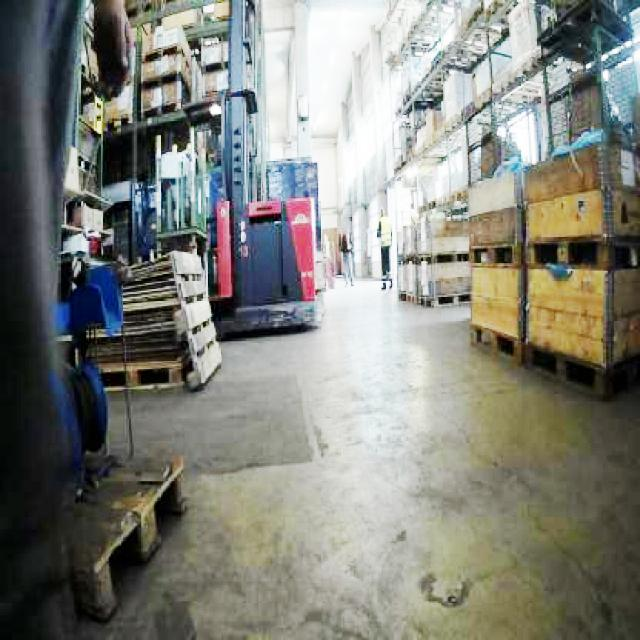ground: (6, 271, 638, 638)
pallet: (378, 0, 638, 398), (465, 143, 638, 397), (63, 451, 186, 620), (82, 248, 222, 392), (466, 169, 523, 363), (169, 249, 222, 389), (395, 214, 471, 306), (135, 25, 197, 117)
